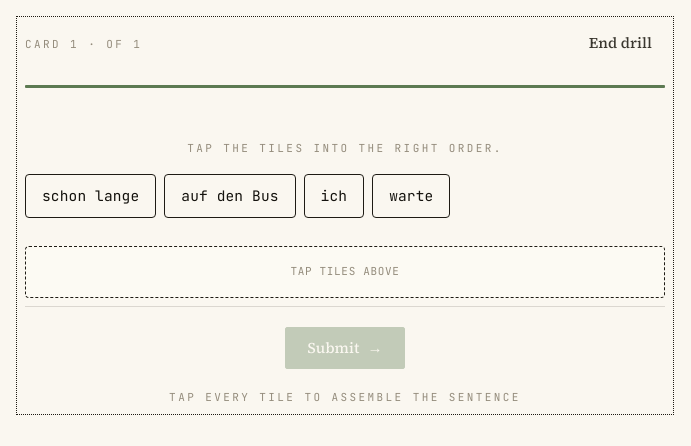
AssemblyRunner — smoke tests › disables Submit until every tile is placed
The image size is (691, 446).
Expected: the button "Submit →" is disabled, [285,327,405,369]
Step 1. Click the button "ich" → (334, 196), box [304,174,364,218]
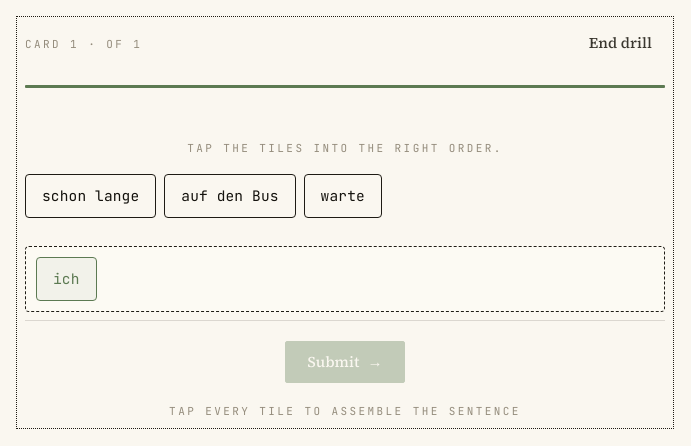
Step 2. Click the button "warte" → (343, 196), box [304,174,382,218]
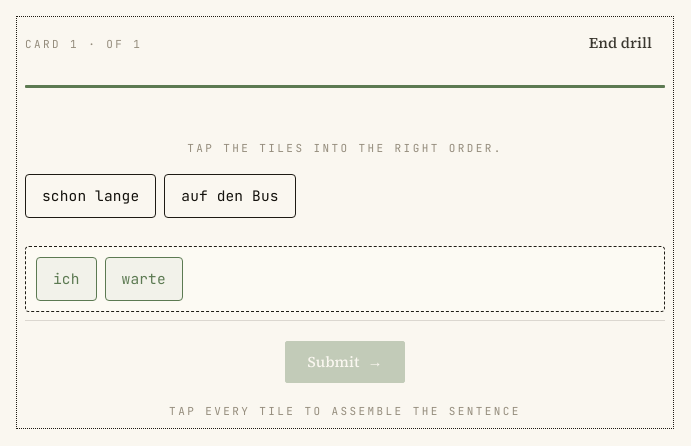
Step 3. Click the button "schon lange" → (91, 196), box [25,174,156,218]
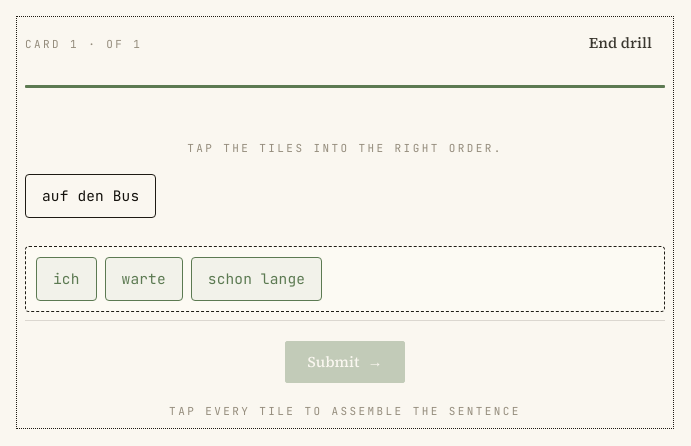
Expected: the button "Submit →" is disabled, [285,341,405,383]
Step 4. Click the button "auf den Bus" → (91, 196), box [25,174,156,218]
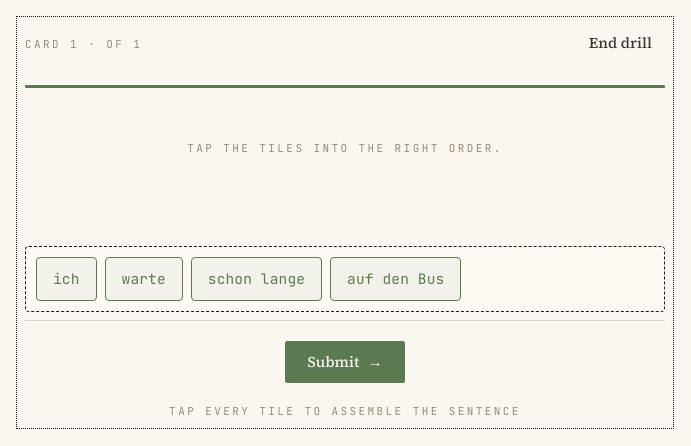
Expected: the button "Submit →" is enabled, [285,341,405,383]
